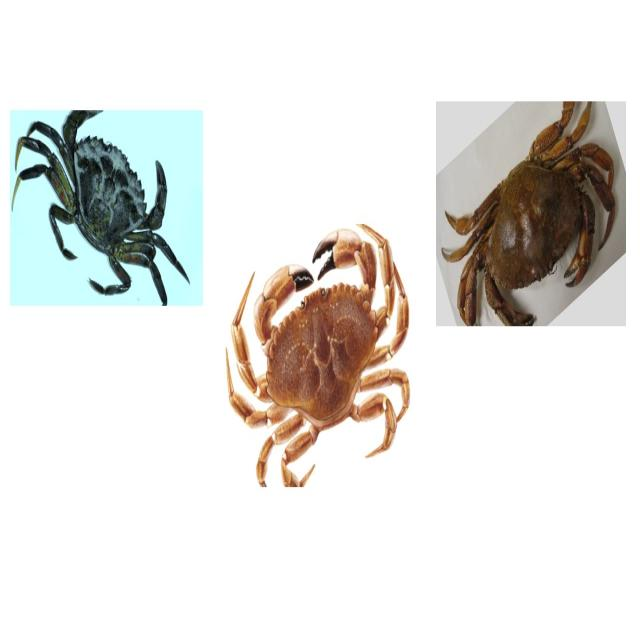egc: (10, 111, 199, 307)
jonah_crab: (231, 221, 410, 488)
rock_crab: (442, 110, 620, 320)
